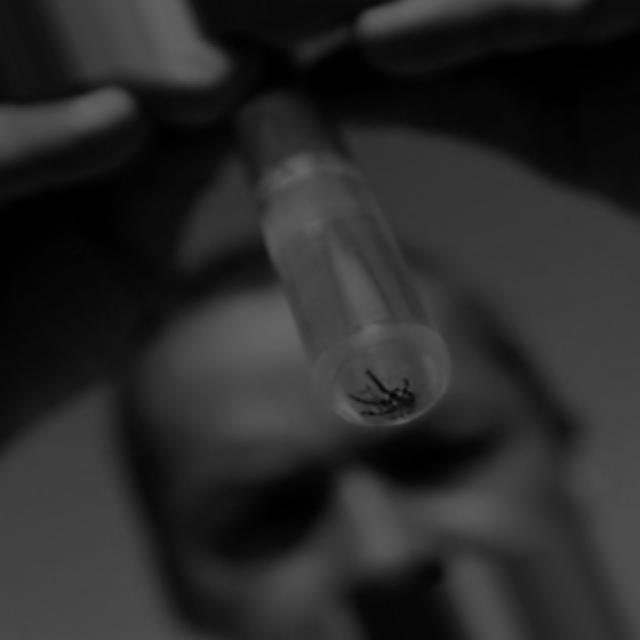larvas: (365, 367, 405, 407), (349, 393, 391, 407), (360, 407, 399, 417), (398, 380, 415, 399)
